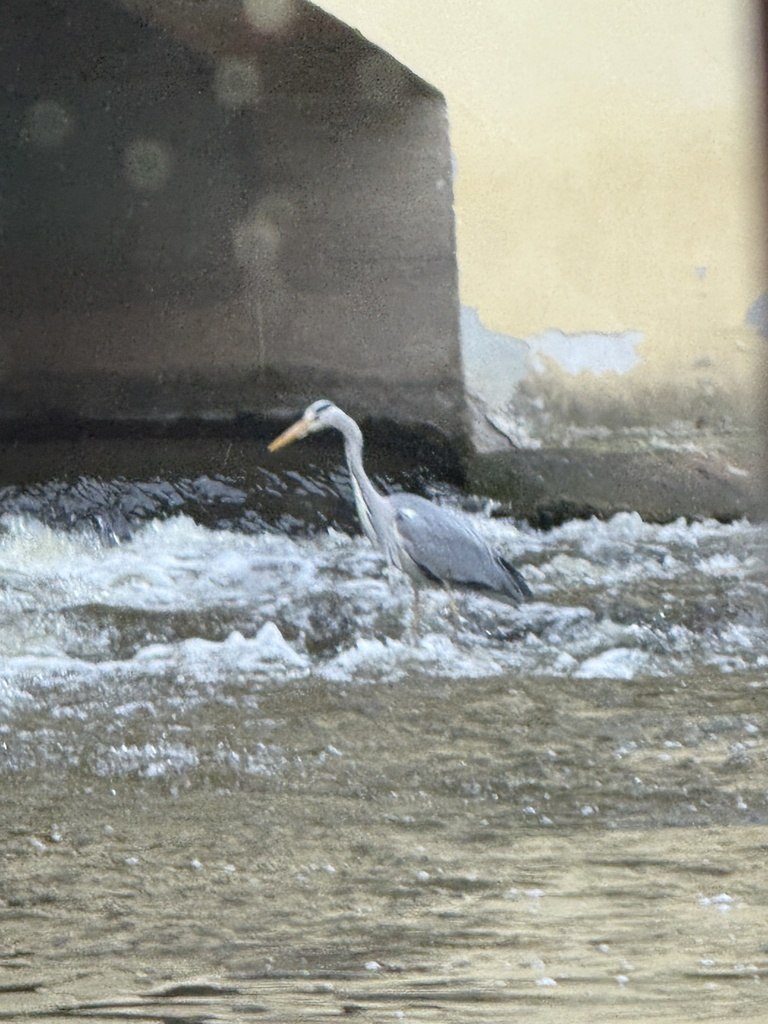heron: (265, 400, 534, 668)
